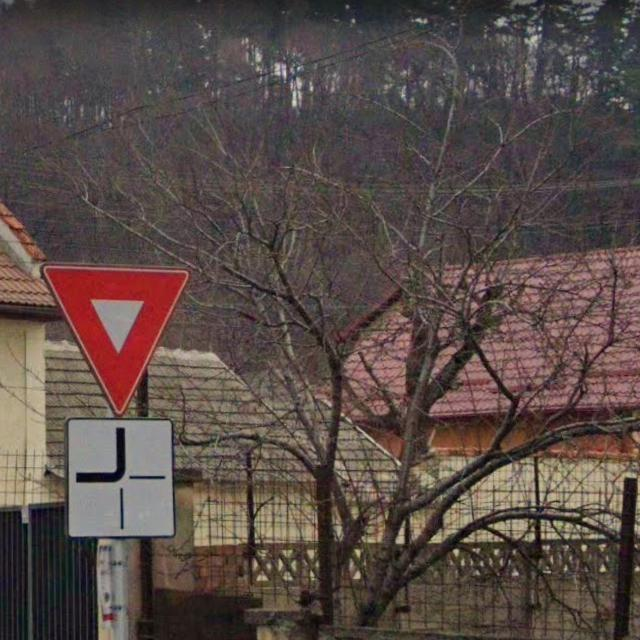prio_give_way: (37, 264, 188, 412)
